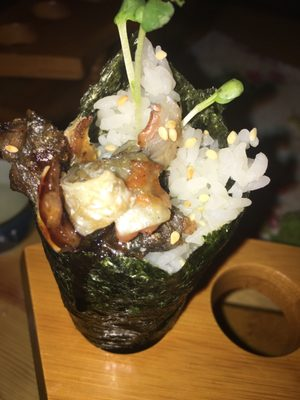pizza: (209, 237, 300, 359)
